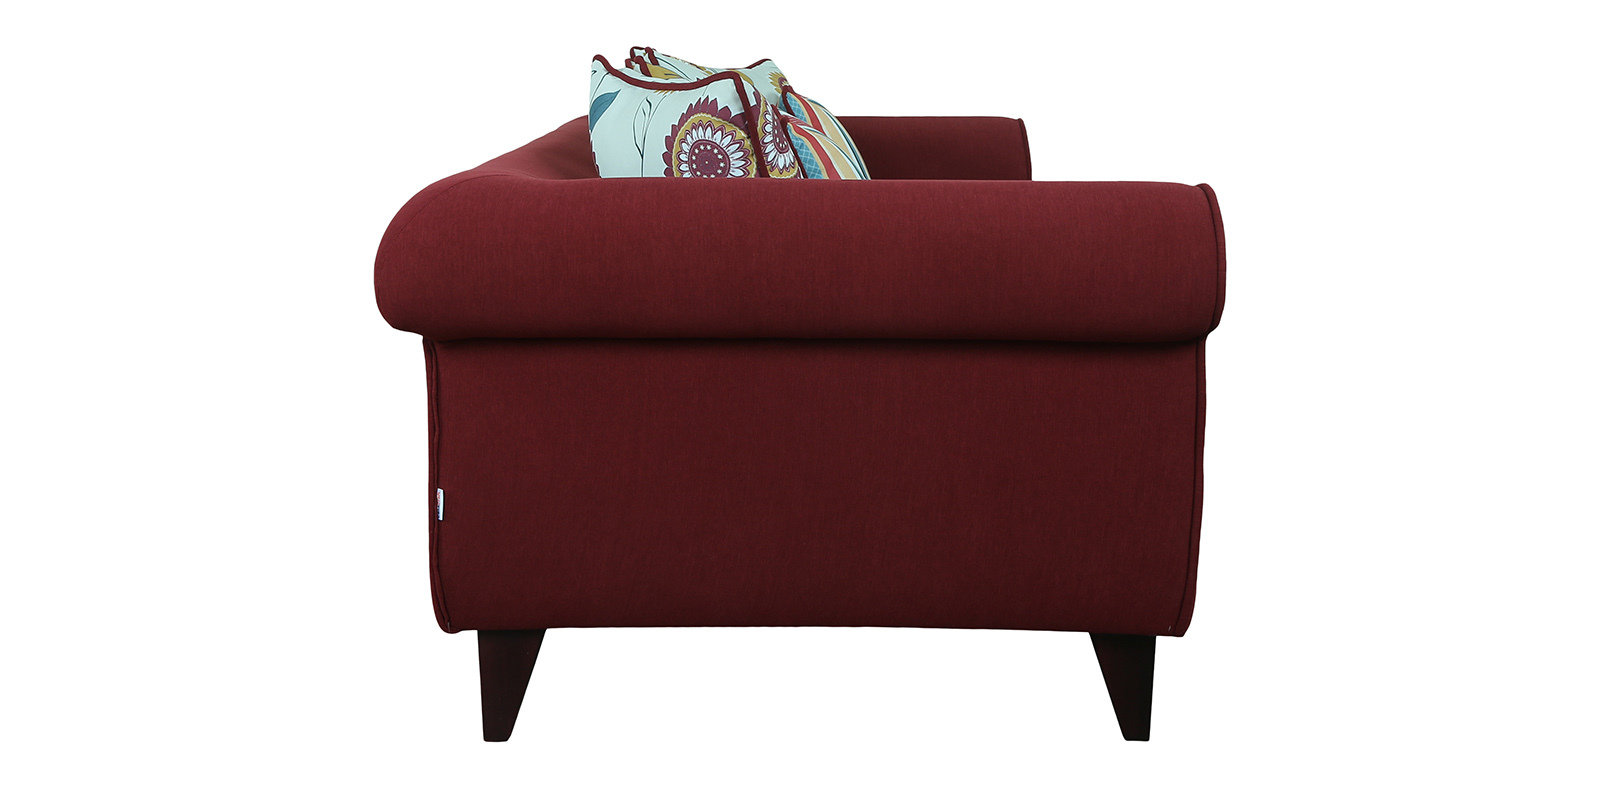Cielo Three Seater Sofa in Garnet Red Colour by CasaCraft: (376, 45, 1236, 743)
